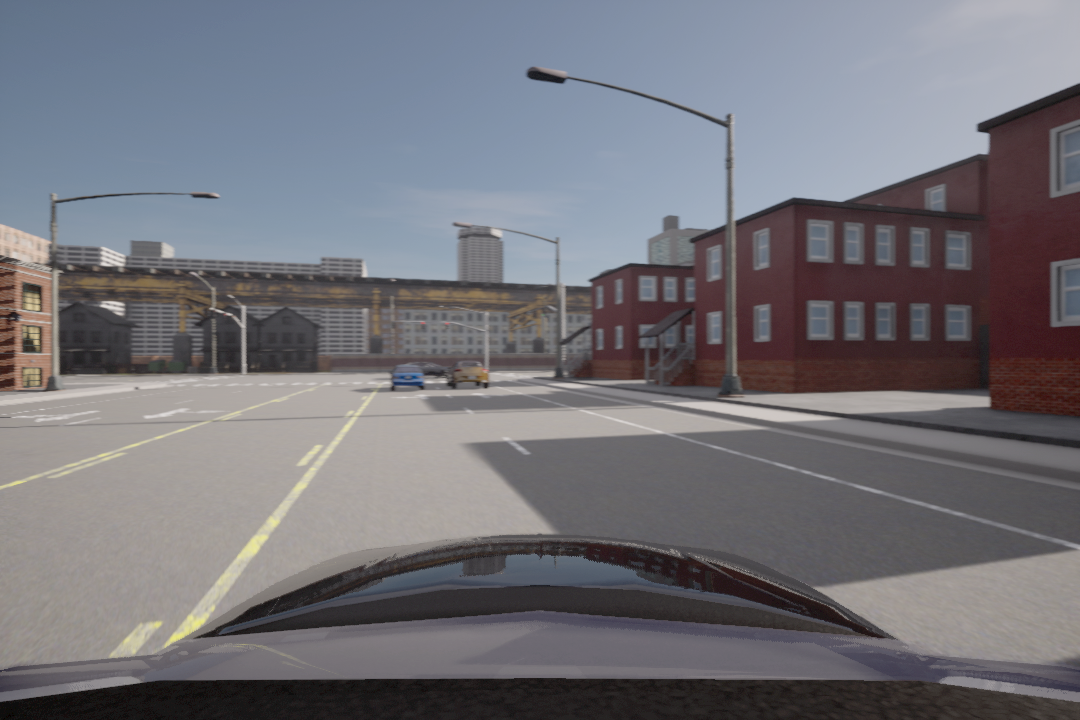RoadSign_forward_left: (140, 404, 224, 420)
RoadSign_forward_right: (15, 407, 99, 429)
